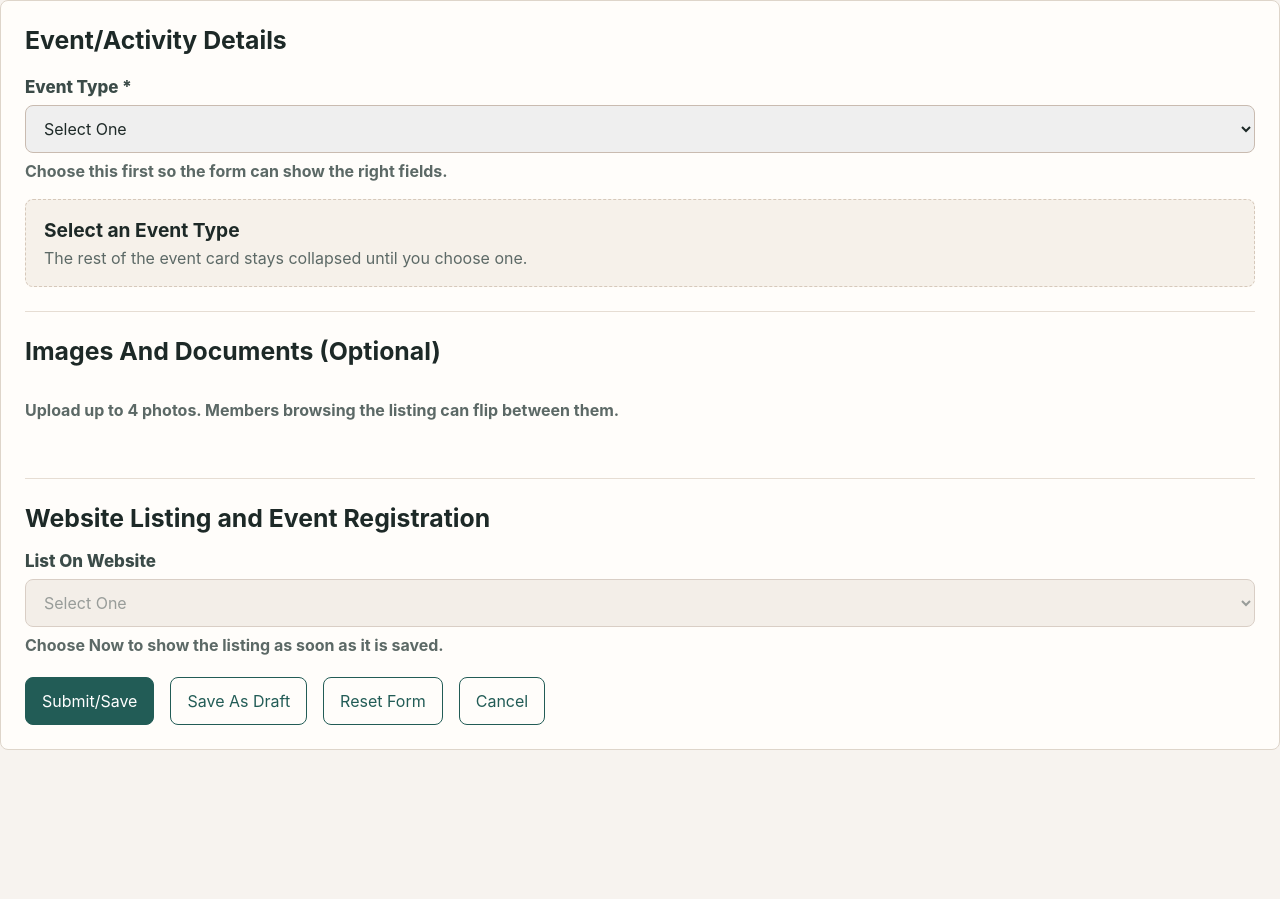
Test: the challenge form hides the fields it does not use › still offers all three for a Workshop
Select "Workshop" in the dropdown labelled "Event Type" at (640, 129), box left=25, top=105, right=1255, bottom=153
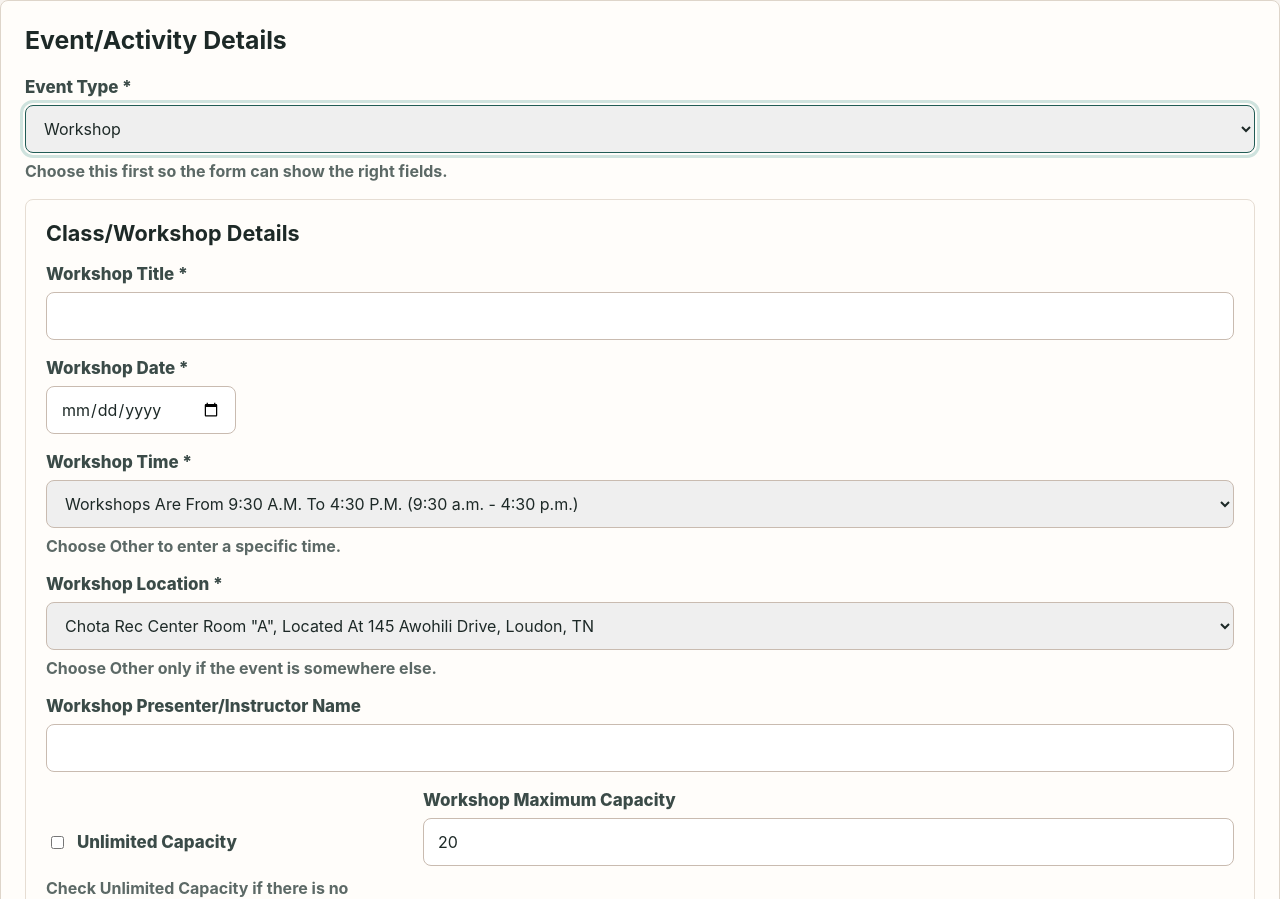
Now the date field labelled "Workshop Date *" is shown, box left=46, top=386, right=236, bottom=434
Now the field labelled "Workshop Presenter/Instructor Name" is shown, box left=46, top=724, right=1234, bottom=772
